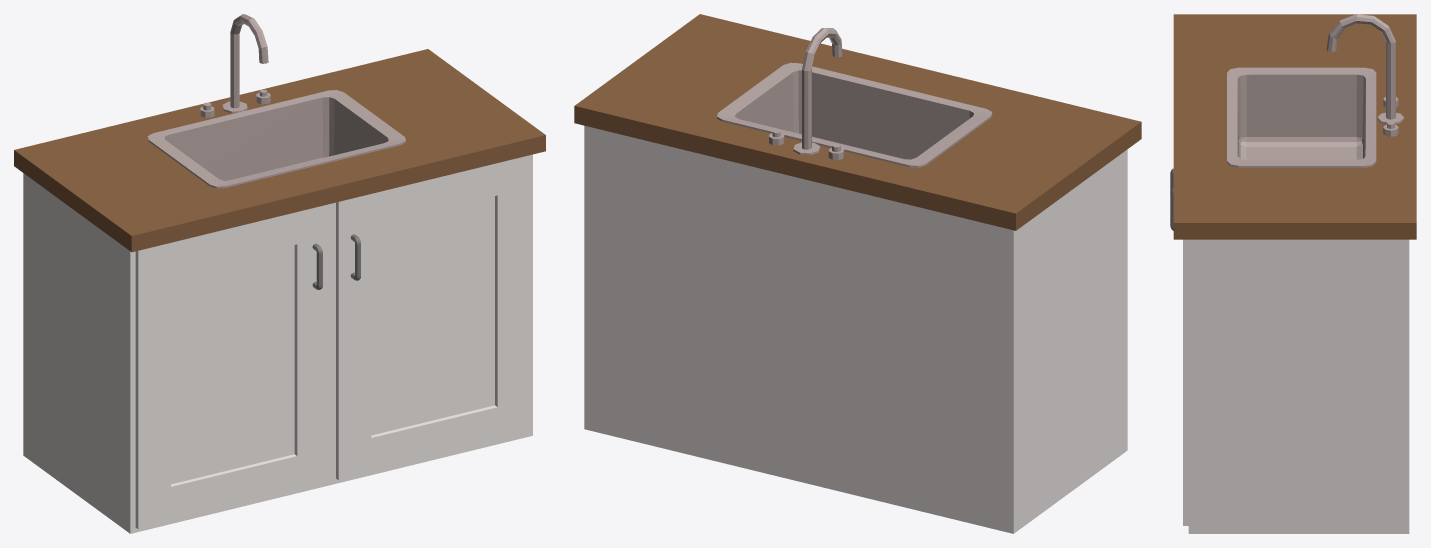
File: Kitchen Tabletop_08.fbx
3 renders of one model, left to right at view 1: azimuth 30°, elevation 25°; view 2: azimuth 150°, elevation 25°; view 3: azimuth 270°, elevation 25°, orthographic. The views are drawn at different scales.
Visible parts, largest first — view 1: Kitchen Tabletop_08; view 2: Kitchen Tabletop_08; view 3: Kitchen Tabletop_08.
Part boxes in pixels (left/top/right/bottom): Kitchen Tabletop_08: left=14, top=14, right=545, bottom=533; Kitchen Tabletop_08: left=574, top=14, right=1141, bottom=533; Kitchen Tabletop_08: left=1170, top=14, right=1416, bottom=533.
Size of the model in its own units: 127 by 119 by 63.28.
